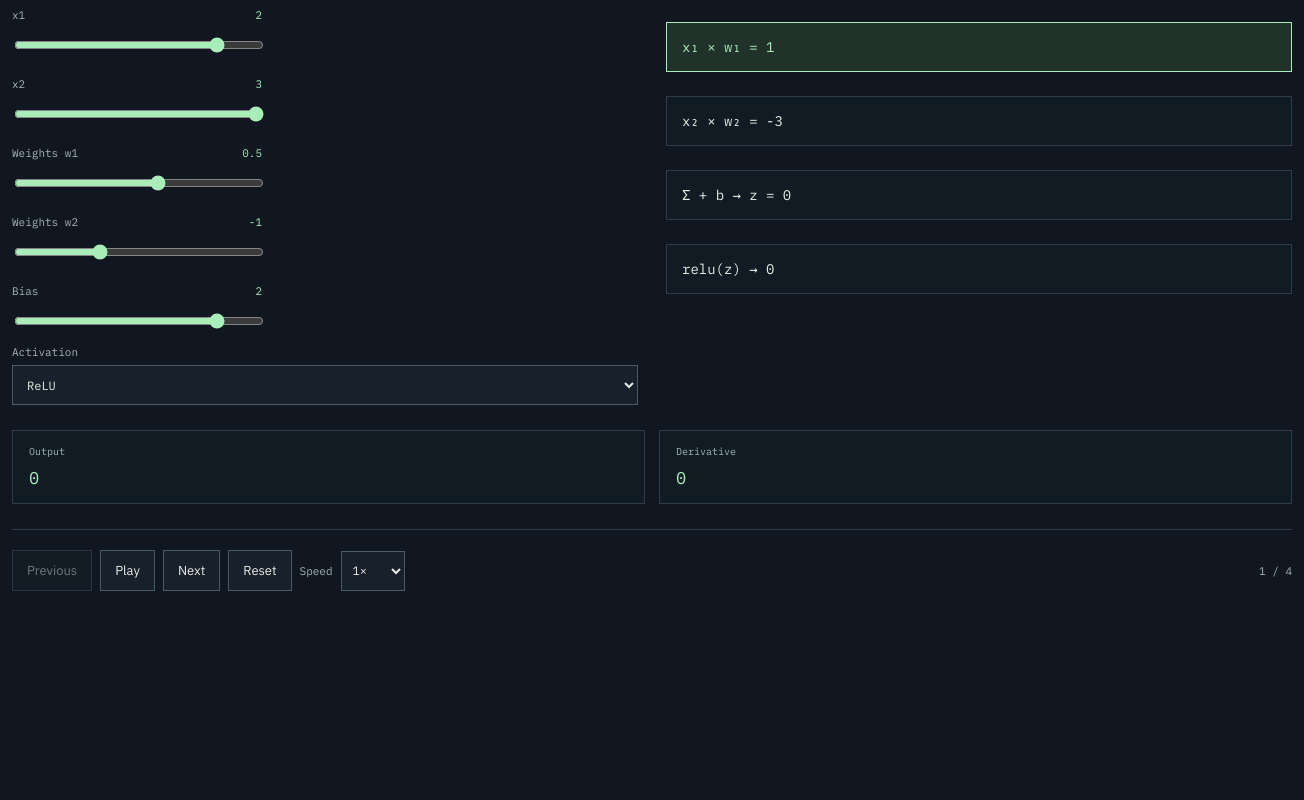
Test: changing a weight changes the actual neuron output
Set the slider named "Weights w1" to "1" at [178, 183], box x1=14 y1=169 x2=264 y2=197
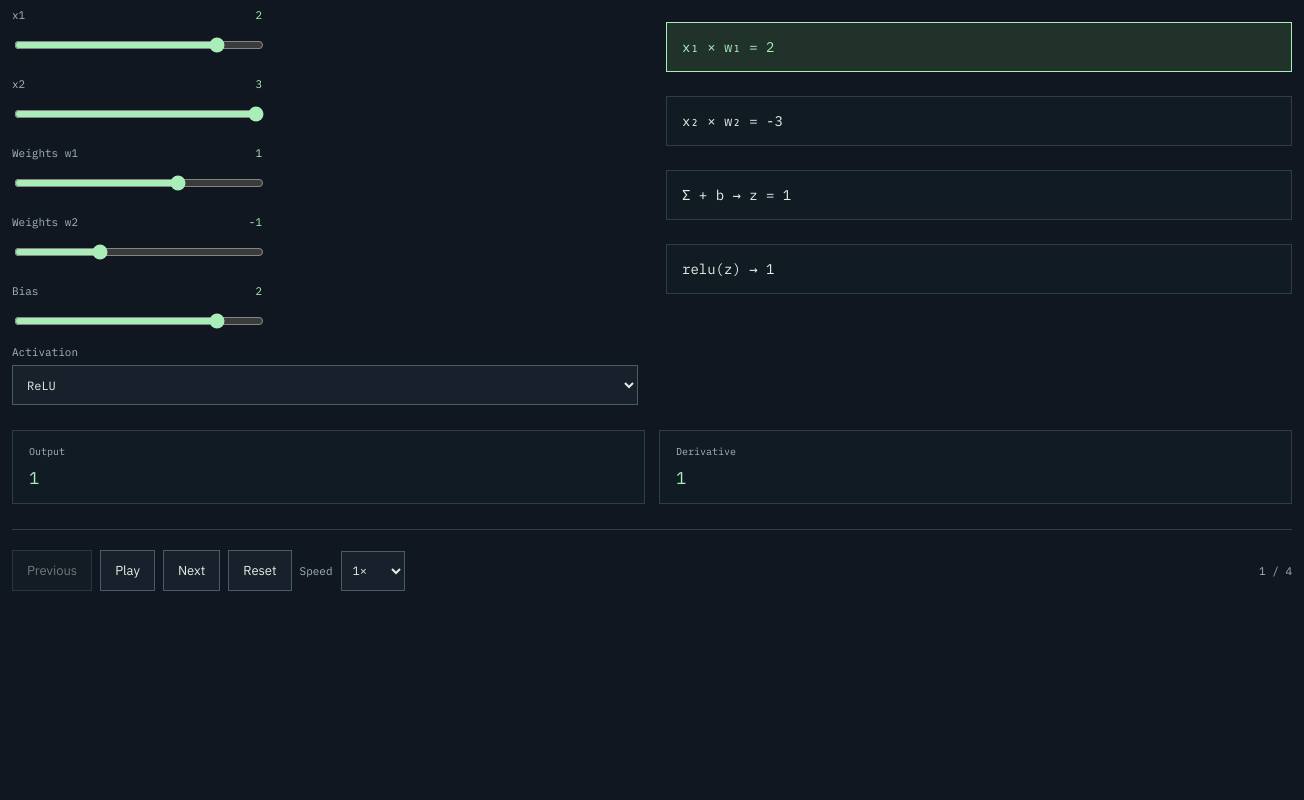
expect the text "relu(z) → 1" is shown: met, box x1=666 y1=244 x2=1292 y2=294
